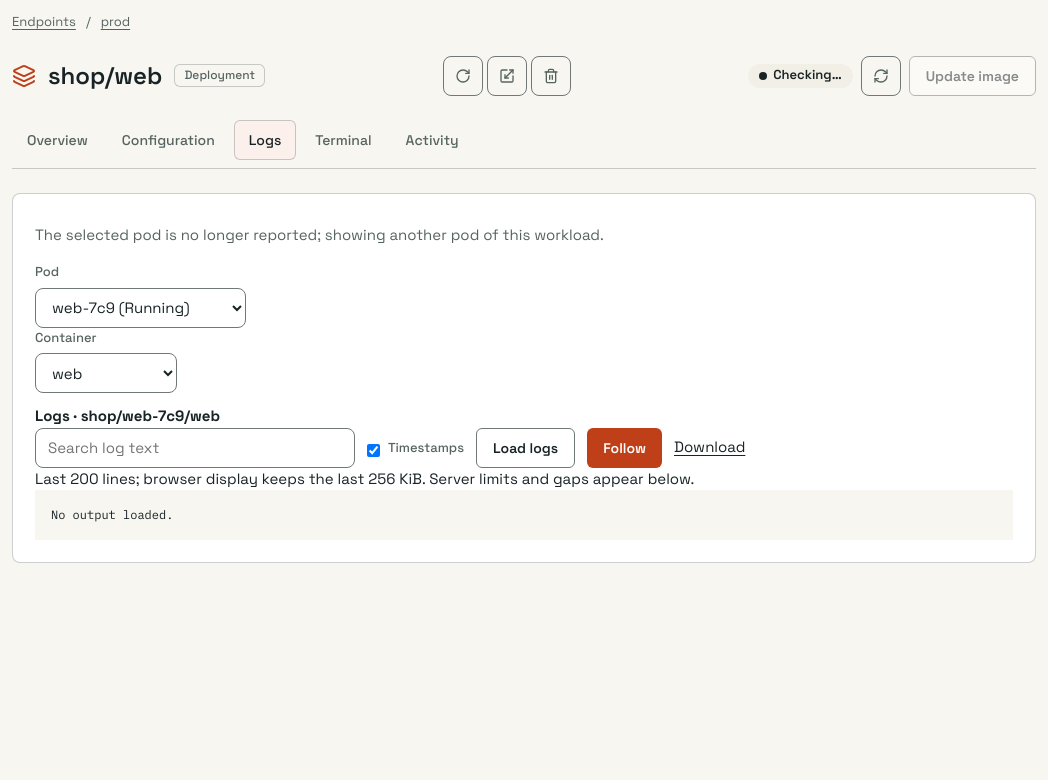
Test: says when the linked pod is gone instead of switching silently
The image size is (1048, 780).
Expected: the text "The selected pod is no longer reported; showing another pod of this workload." is shown, [35, 224, 604, 244]
Select "web-8d1 (Pending)" in the dropdown labelled "Pod" at (141, 308), box [35, 288, 246, 328]
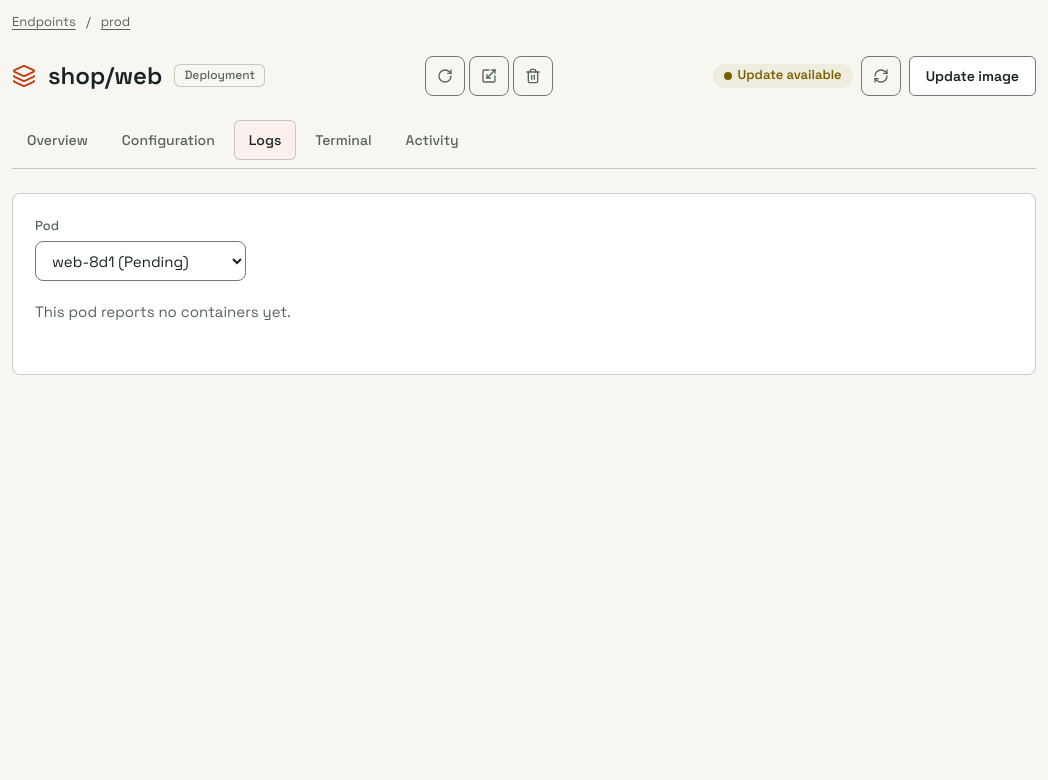
Now the text "selected pod is no longer reported" is gone
